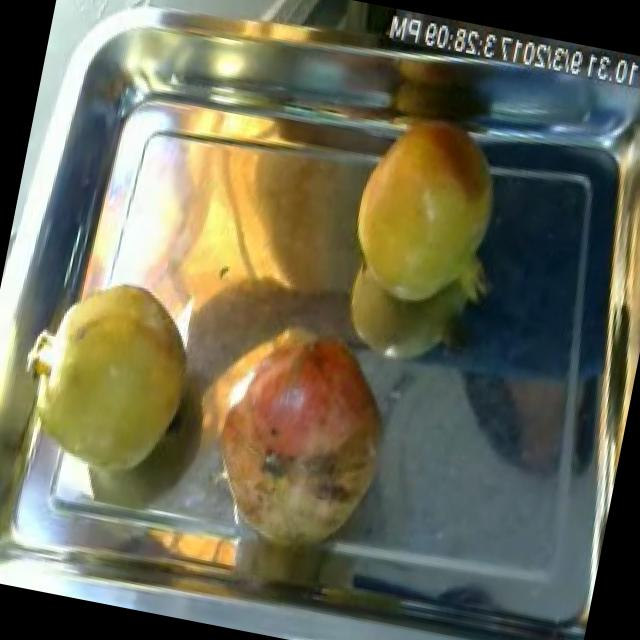fruit: (187, 298, 415, 580), (0, 249, 215, 506), (329, 94, 523, 326)
